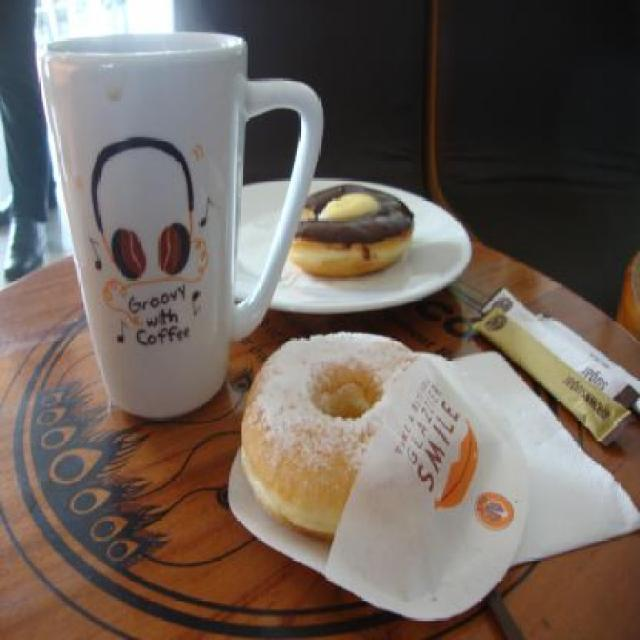Bagel: (241, 328, 413, 540), (290, 180, 416, 280)
